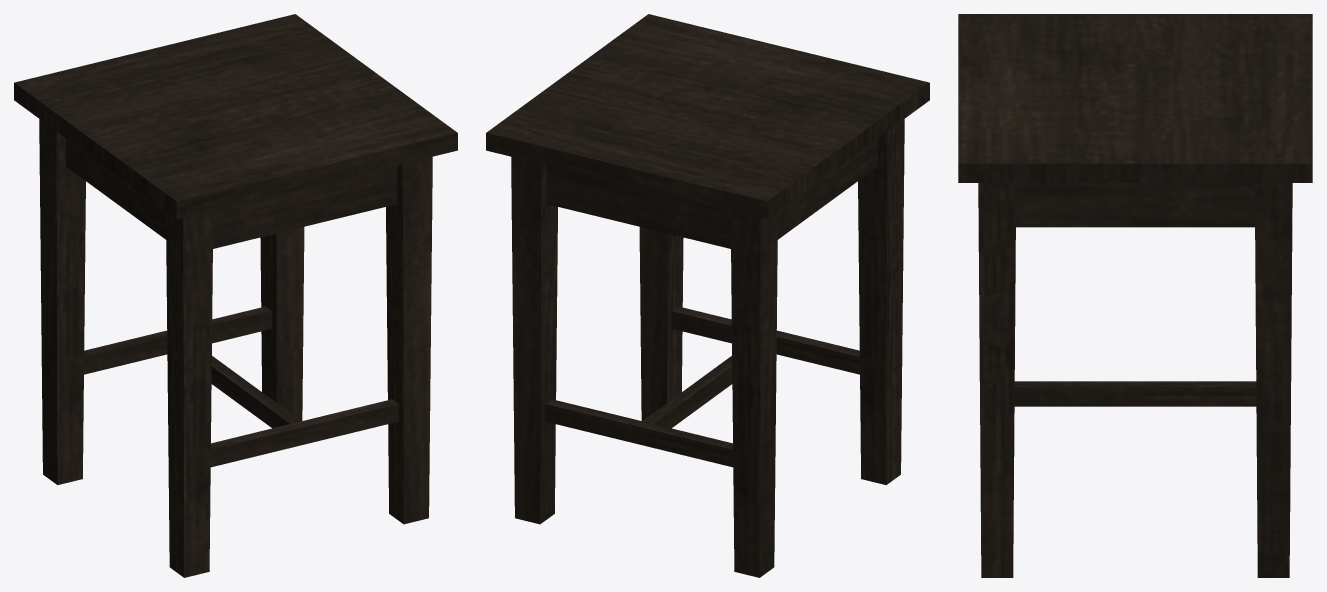
The model's file is chair_mp_1_2.fbx.
The picture shows the model from 3 angles, left to right: view 1: azimuth 30°, elevation 25°; view 2: azimuth 150°, elevation 25°; view 3: azimuth 270°, elevation 25°; orthographic projection. The views are drawn at different scales.
Parts seen in each view (by area): view 1: chair_mp_1_2; view 2: chair_mp_1_2; view 3: chair_mp_1_2.
Boxes of the visible parts, x1,y1,x2,y2 form: chair_mp_1_2: (14,14,457,577); chair_mp_1_2: (486,14,929,577); chair_mp_1_2: (958,14,1312,577).
Size of the model in its own units: 0.5 by 0.5 by 0.66.
